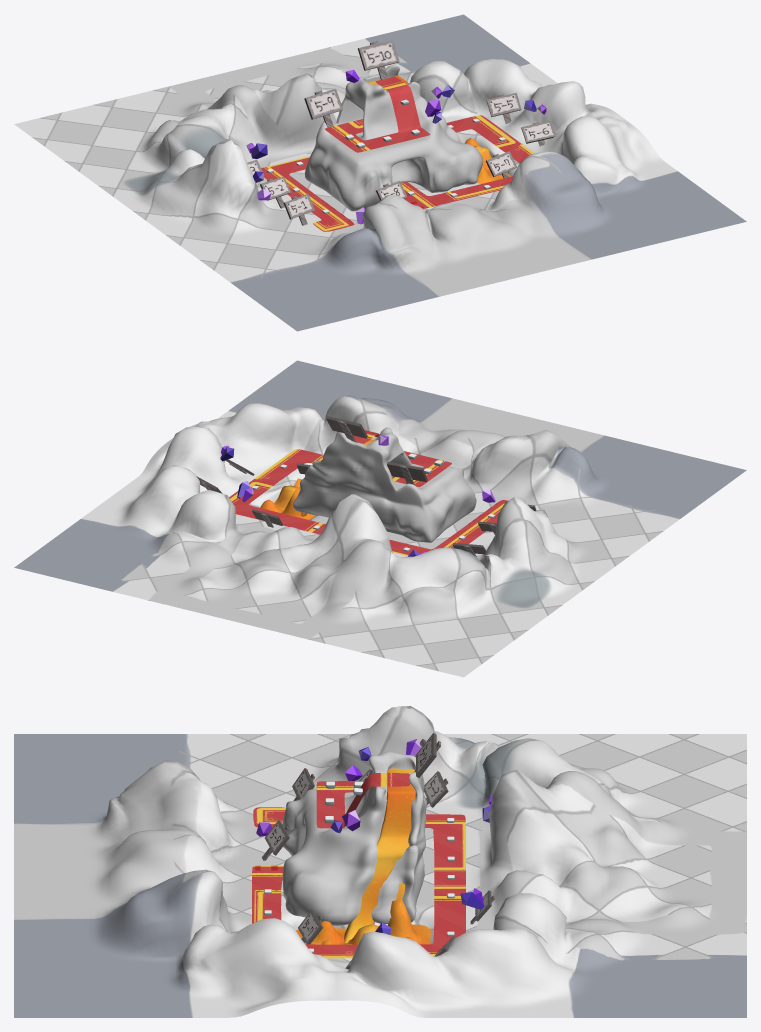
File: stage5_select_all.fbx
3 views of the same model, one above another, from view 1: azimuth 30°, elevation 25°; view 2: azimuth 150°, elevation 25°; view 3: azimuth 270°, elevation 25° (orthographic). The views are drawn at different scales.
Parts seen in each view (by area): view 1: ground3, mountain1, road01, road02, signboard01 (×3), signboard5; view 2: ground3, mountain1, road01, road02, volcano1; view 3: ground3, mountain1, road01, volcano2, road02, volcano1, signboard01 (×2).
Part boxes in pixels (x1=…): ground3: x1=14, y1=14, x2=746, y2=331; mountain1: x1=304, y1=64, x2=482, y2=211; road01: x1=261, y1=115, x2=534, y2=231; road02: x1=325, y1=76, x2=430, y2=152; signboard01 (×3): x1=358, y1=40, x2=556, y2=143; signboard5: x1=304, y1=88, x2=343, y2=119; ground3: x1=14, y1=360, x2=746, y2=677; mountain1: x1=293, y1=427, x2=476, y2=542; road01: x1=229, y1=449, x2=508, y2=555; road02: x1=353, y1=430, x2=451, y2=486; volcano1: x1=260, y1=478, x2=315, y2=519; ground3: x1=14, y1=706, x2=746, y2=1017; mountain1: x1=282, y1=751, x2=426, y2=925; road01: x1=252, y1=807, x2=465, y2=958; volcano2: x1=344, y1=768, x2=415, y2=943; road02: x1=316, y1=773, x2=409, y2=828; volcano1: x1=296, y1=898, x2=430, y2=944; signboard01 (×2): x1=416, y1=732, x2=448, y2=807.
Size of the model in its own units: 24.41 by 7.04 by 26.62.
